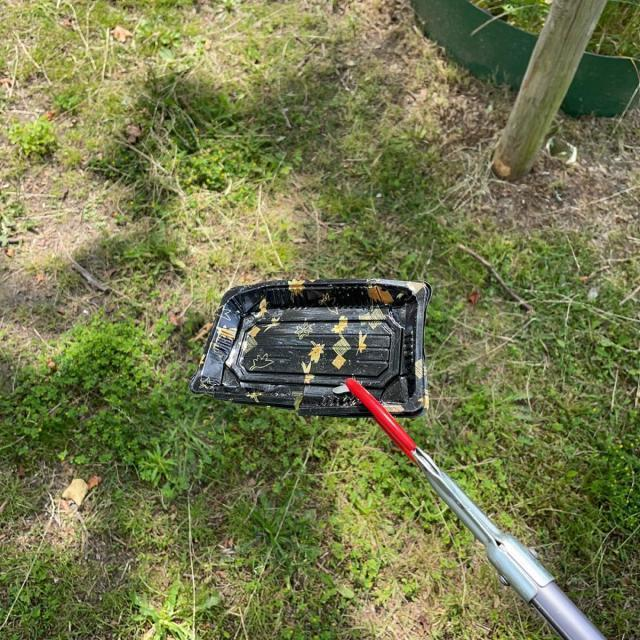Plastic: (187, 276, 434, 420)
